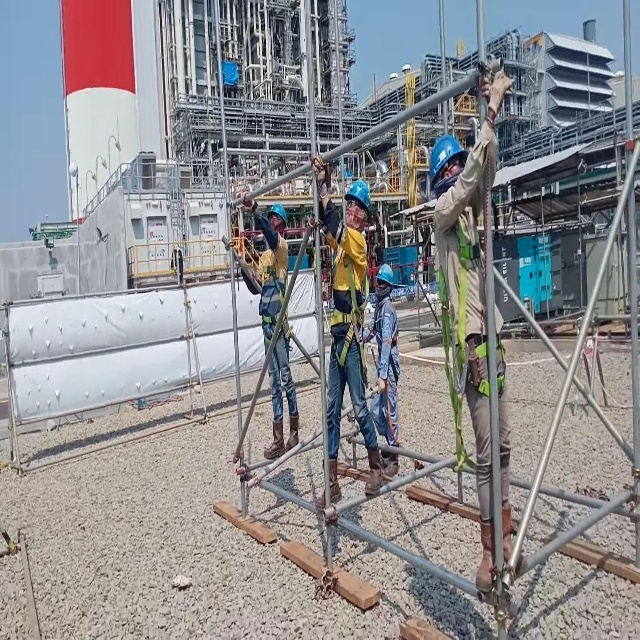Arnes_seguridad: (435, 216, 505, 473), (328, 237, 370, 394), (371, 296, 403, 441), (256, 246, 292, 357)
